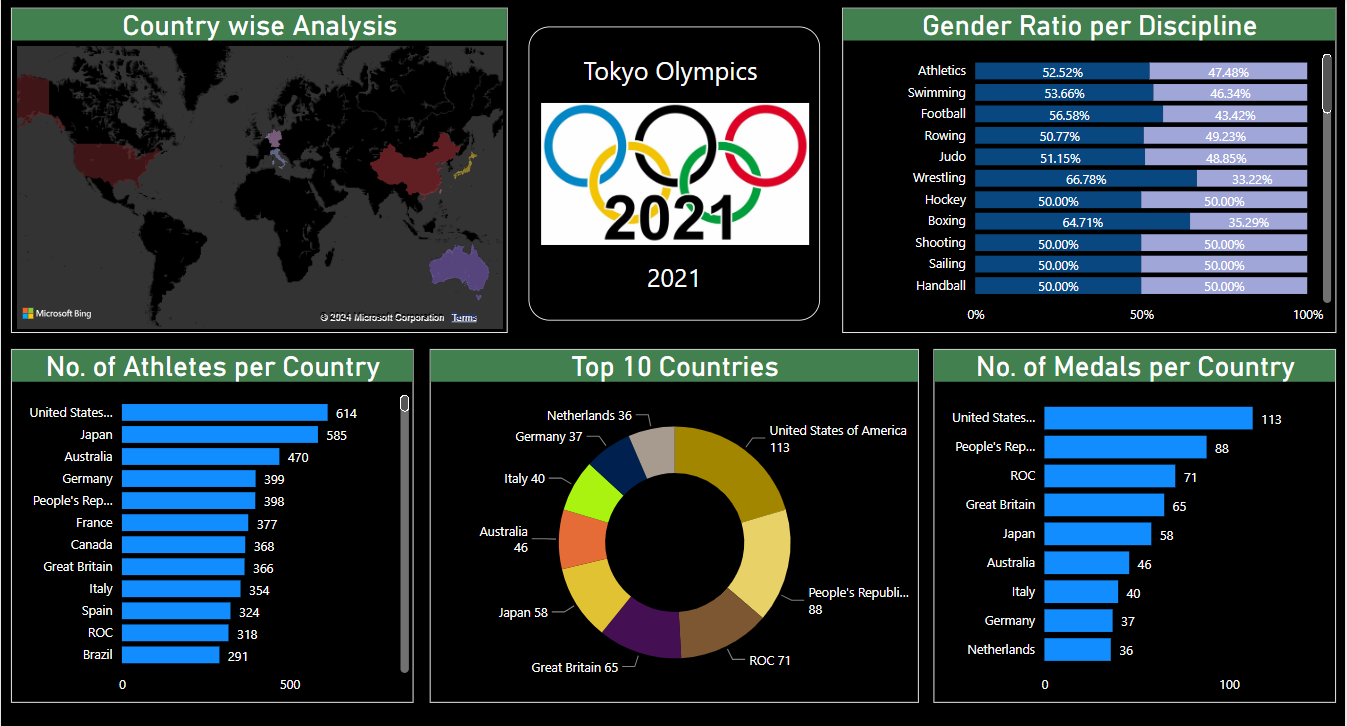

This screenshot's page, from the dashboard's own definition file:
{"tool":"powerbi","page":{"name":"Page 1","canvas":[1280,720],"ordinal":0},"visuals":[{"type":"image","box":[502.2,26.2,277.3,279.7],"z":0},{"type":"textbox","box":[511.7,46.4,258.2,41.7],"z":1000},{"type":"textbox","box":[511.7,244,258.2,46.4],"z":2000},{"type":"donutChart","title":"Top 10 Countries","fields":{"Category":["Medals.Team_Country"],"Y":["Medals.Total"]},"box":[408.2,333.2,465.3,336.8],"z":3000},{"type":"barChart","title":"No. of Athletes per Country","fields":{"Category":["Athletes (2).Country"],"Y":["Athletes (2).PersonName"]},"box":[9.5,333.2,383.2,336.8],"z":4000},{"type":"barChart","title":"No. of Medals per Country","fields":{"Category":["Medals.Team_Country"],"Y":["Medals.Total"]},"box":[887.8,333.2,383.2,336.8],"z":5000},{"type":"hundredPercentStackedBarChart","title":"Gender Ratio per Discipline","fields":{"Category":["EntriesGender.Discipline"],"Y":["EntriesGender.Male","EntriesGender.Female"]},"box":[800.9,8.3,470.1,309.4],"z":6000},{"type":"filledMap","title":"Country wise Analysis","fields":{"Category":["Medals.Team_Country"],"Series":["Medals.Total"]},"box":[9.5,8.3,472.5,309.4],"z":6001}]}

Visuals, with their boxes on the page's 1280x720 design canvas (x1, y1, x2, y2). These are canvas units, not pixel positions in the 1347x726 screenshot, which may show the page scaled, cropped or inside an application window:
image: <bbox>502, 26, 780, 306</bbox>
textbox: <bbox>512, 46, 770, 88</bbox>
textbox: <bbox>512, 244, 770, 290</bbox>
"Top 10 Countries" donutChart: <bbox>408, 333, 874, 670</bbox>
"No. of Athletes per Country" barChart: <bbox>10, 333, 393, 670</bbox>
"No. of Medals per Country" barChart: <bbox>888, 333, 1271, 670</bbox>
"Gender Ratio per Discipline" hundredPercentStackedBarChart: <bbox>801, 8, 1271, 318</bbox>
"Country wise Analysis" filledMap: <bbox>10, 8, 482, 318</bbox>
